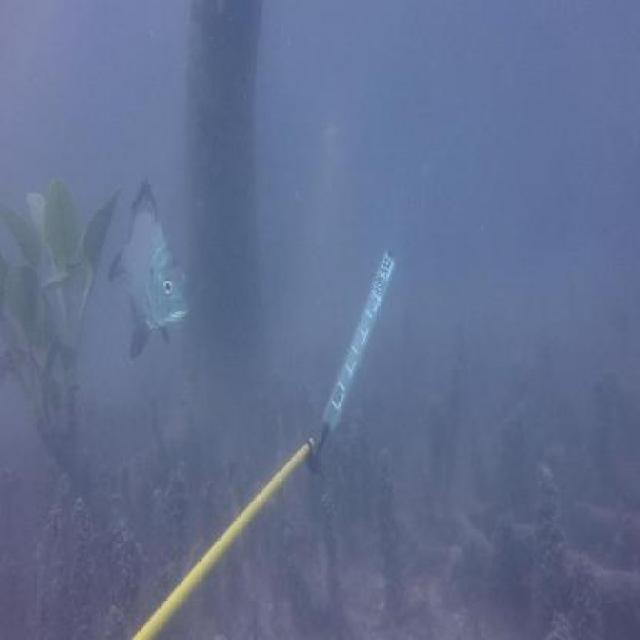acanthopagrus_palmaris: (112, 182, 191, 356)
